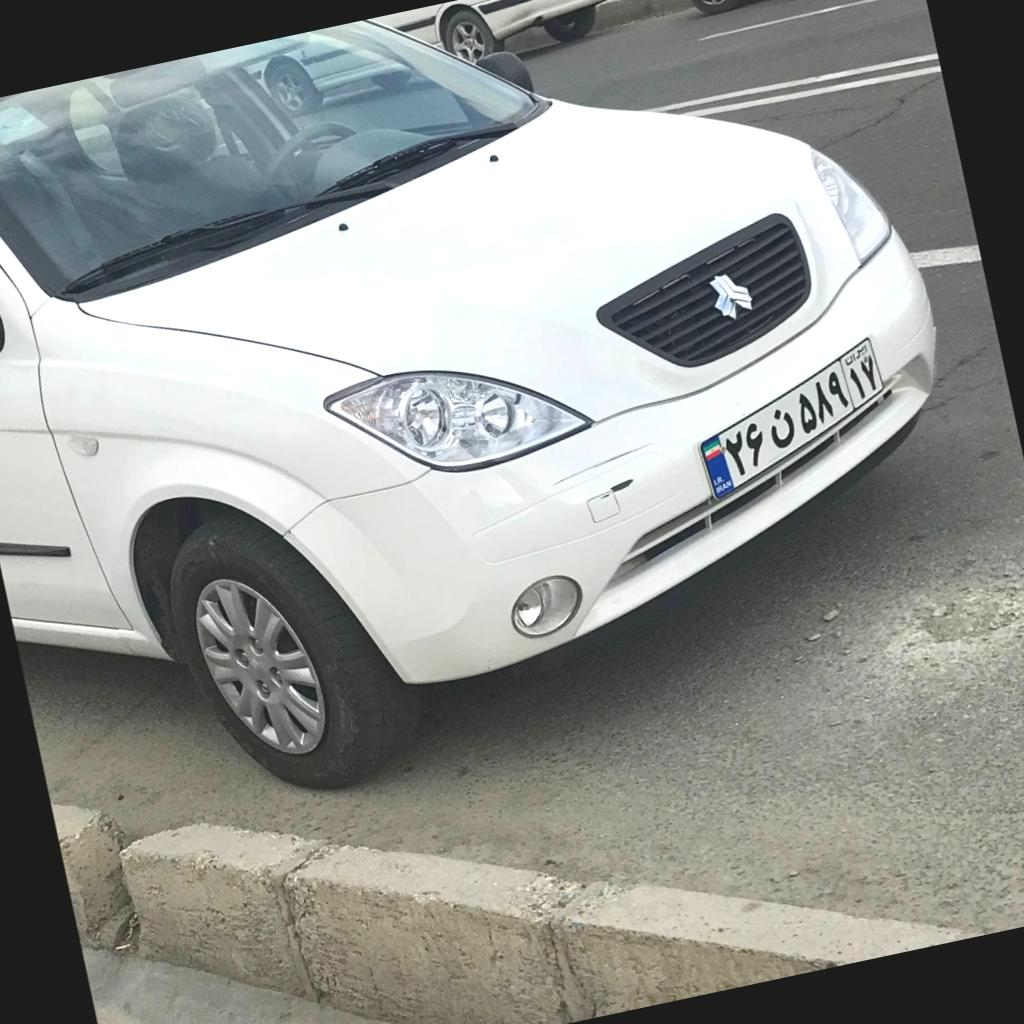Plates: (698, 338, 883, 500)
